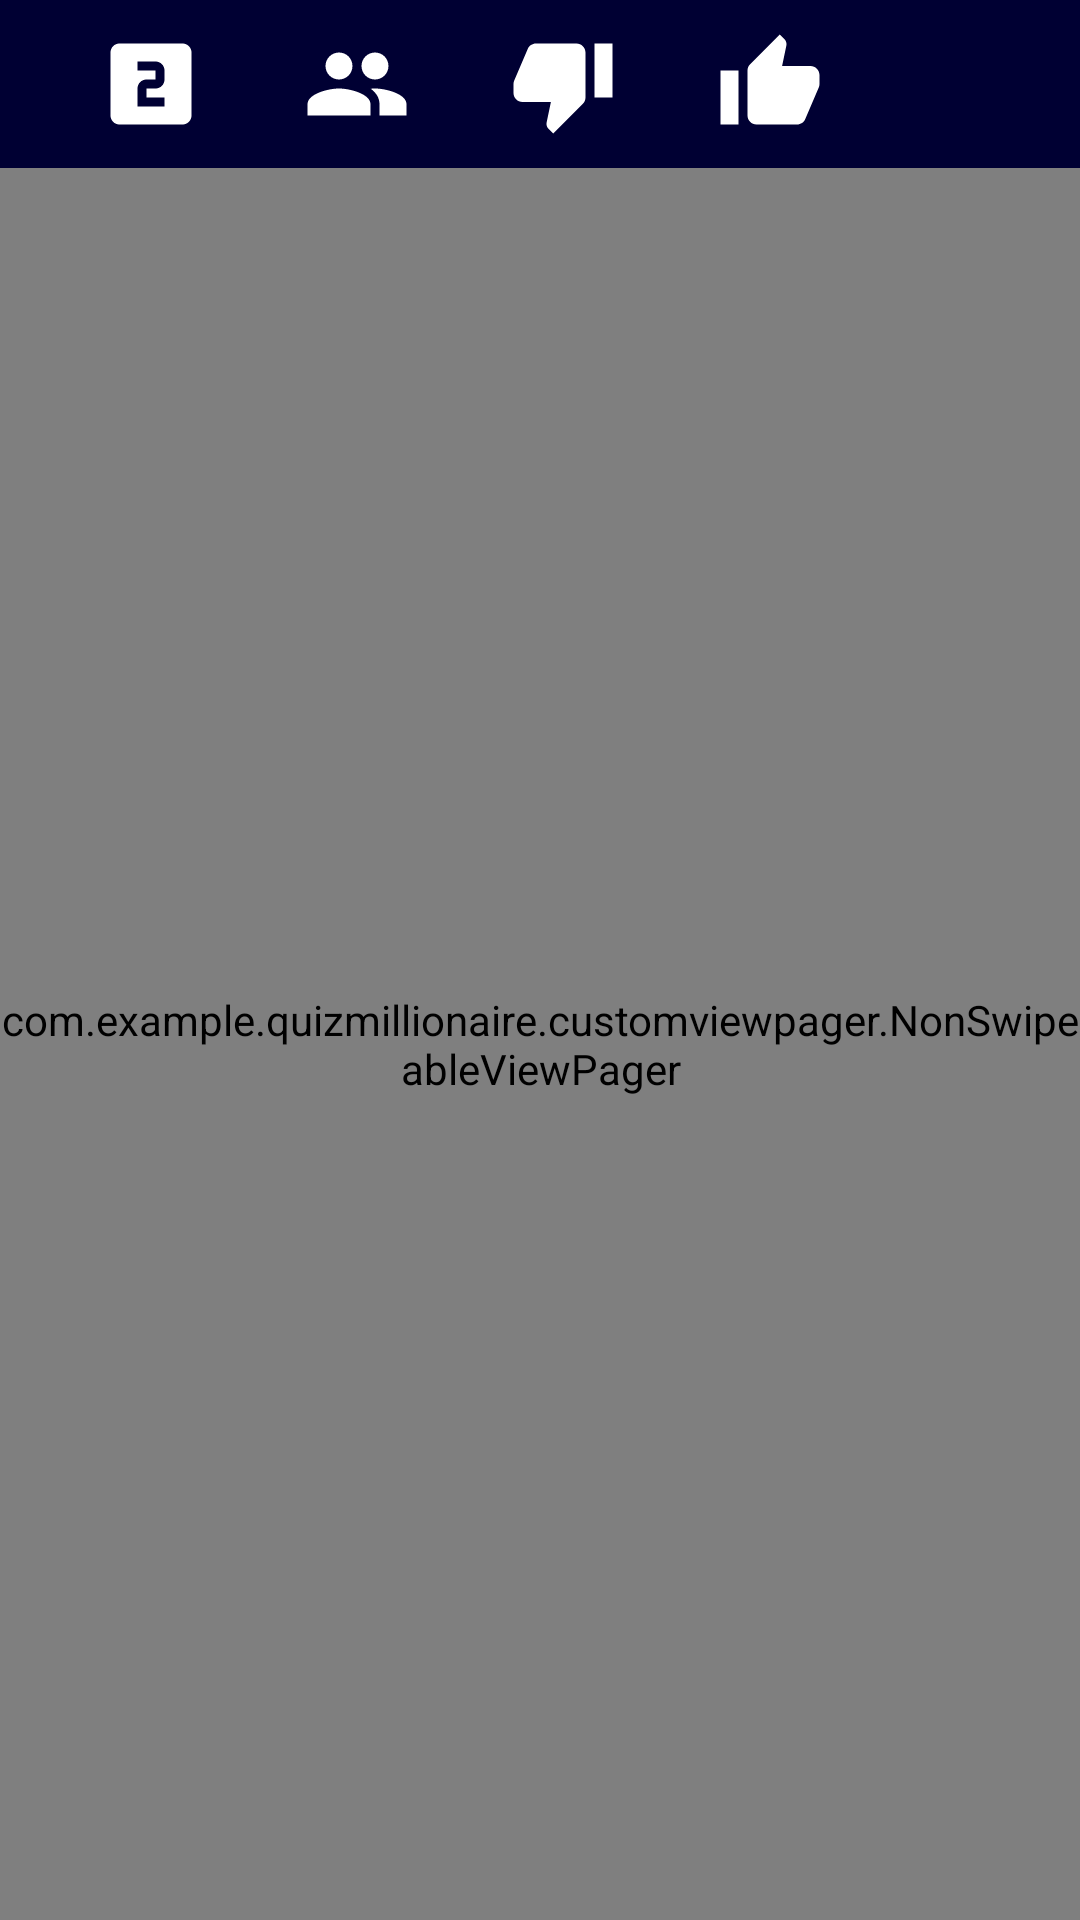

Screen size 1080x1920. Icon name, then its box in pixels as detection(x1, y1, x2, y2):
folks helper: detection(307, 52, 407, 116)
thumb down: detection(513, 43, 613, 134)
thumb up: detection(720, 34, 820, 125)
